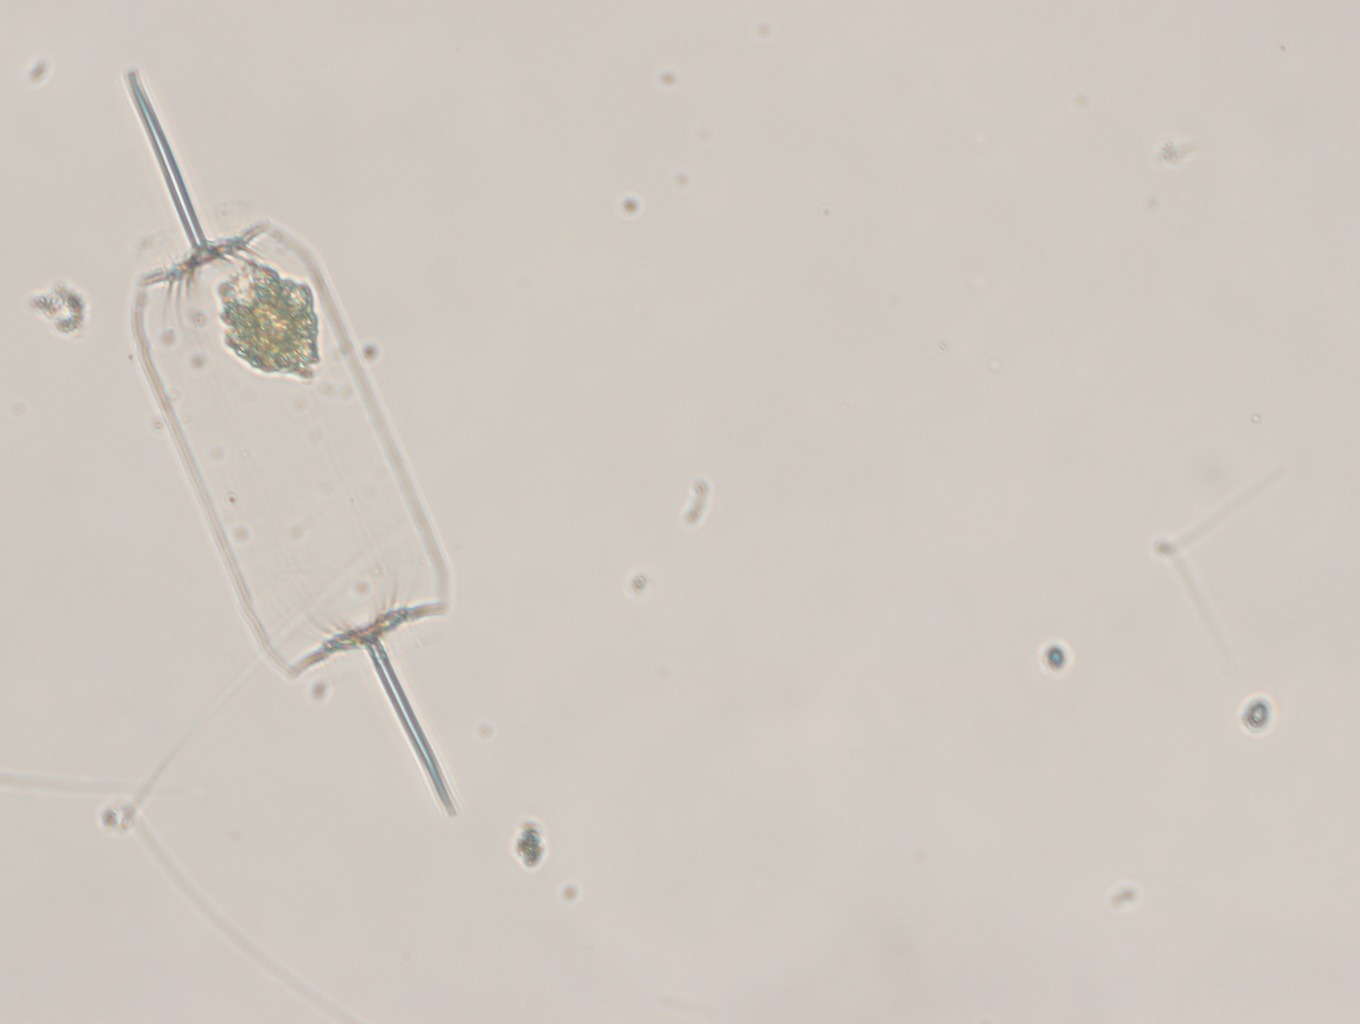ditylum: (90, 61, 469, 834)
